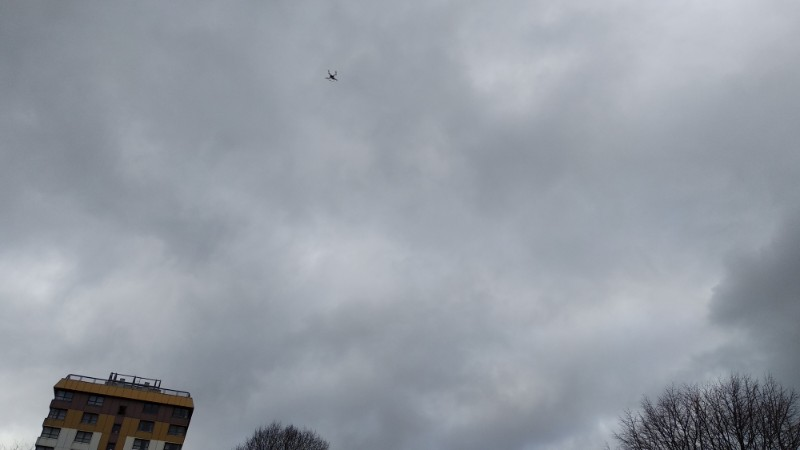drone: (324, 70, 339, 83)
